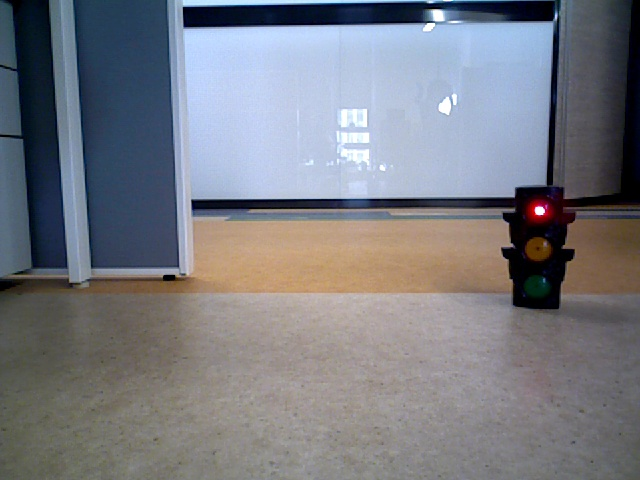red: (515, 188, 558, 306)
